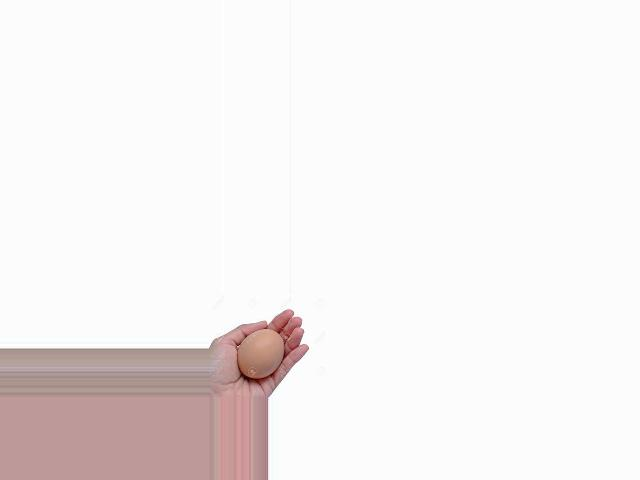egg: (237, 329, 284, 378)
